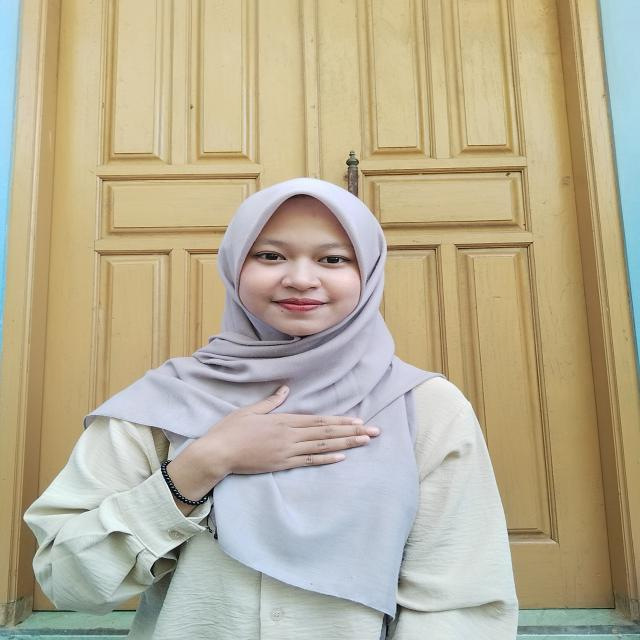tolong: (144, 384, 387, 506)
